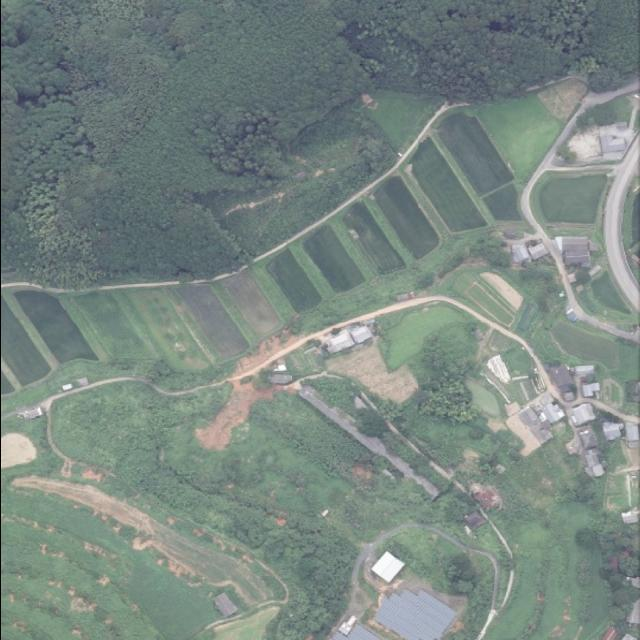landslide: (193, 373, 281, 450)
